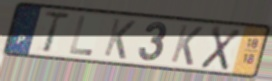3: (137, 21, 169, 64)
K: (168, 23, 205, 67), (101, 17, 138, 61)
L: (67, 14, 94, 57)
T: (41, 10, 72, 55)
X: (198, 24, 243, 73)
